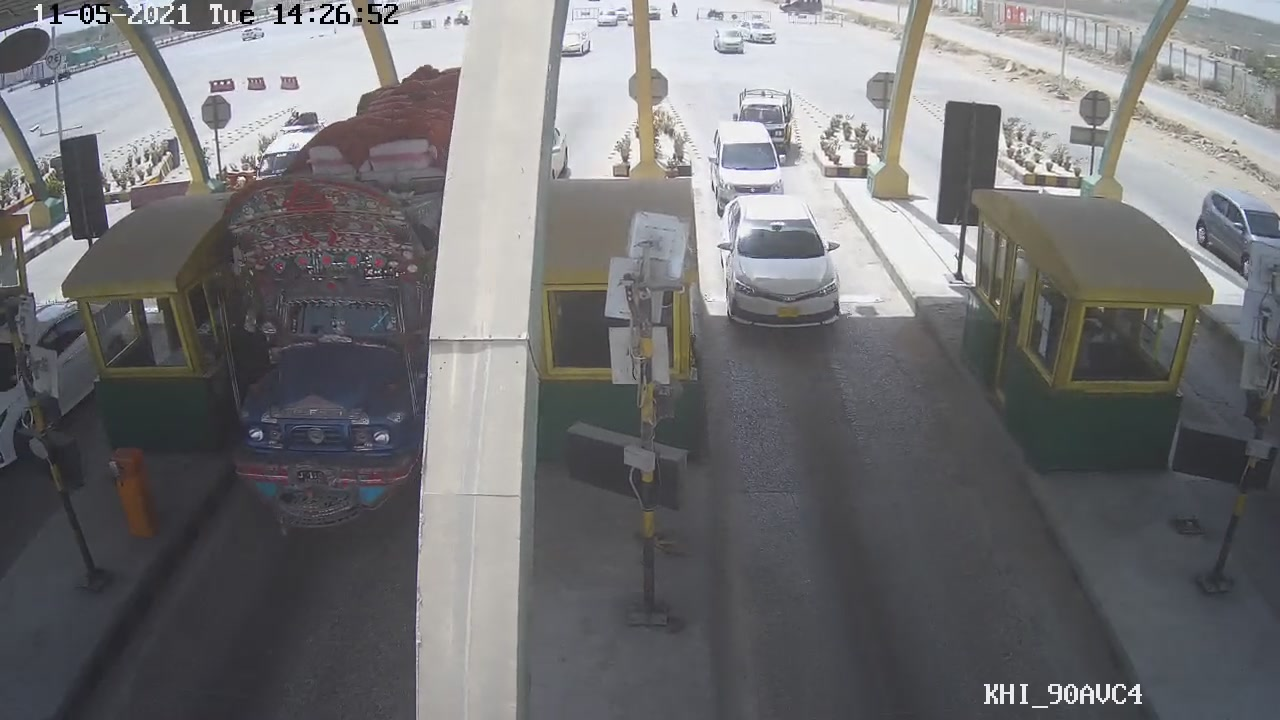F1: (714, 192, 850, 350)
